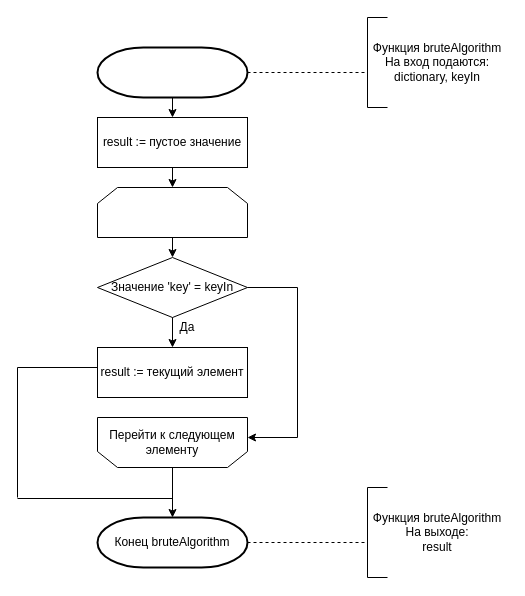
Image size: 525x596. Some labels were removed from this diagram. The shapes that lost their labels are listed below. From the top down, each one's centre as x and y in pixels, then its label:
At pixel 172 72: "Начало bruteAlgorithm".
At pixel 172 212: "Цикл по элементам словаря dictionary".
